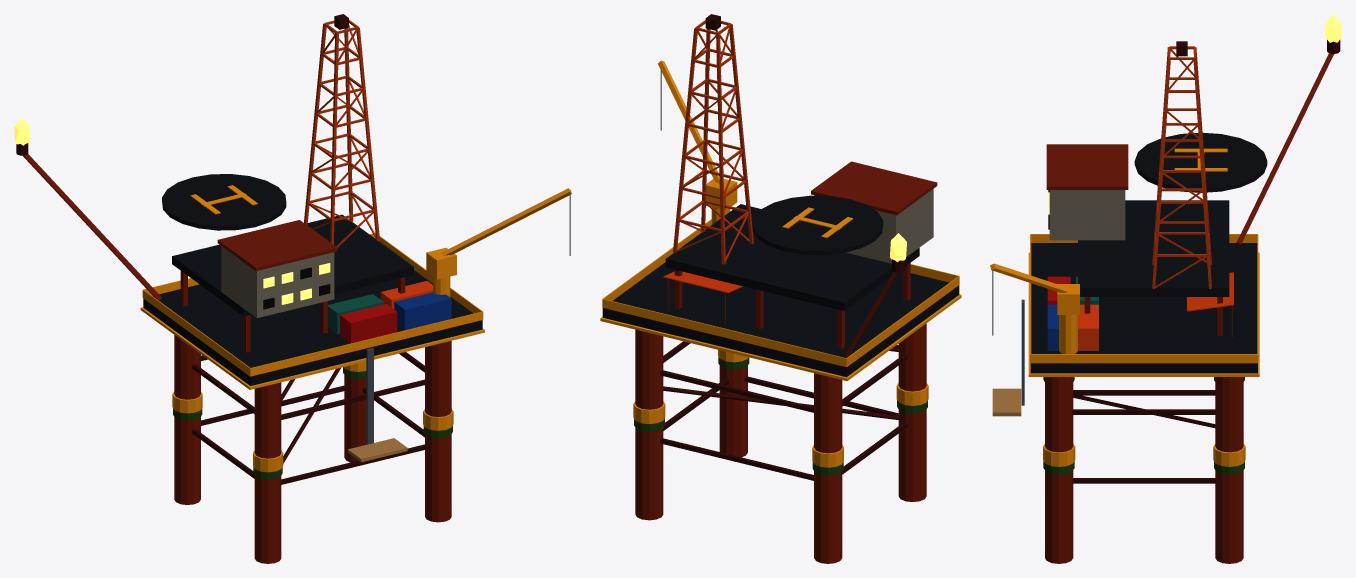
File: tb_oil_rig.glb
3 views of the same model, side by side, from view 1: azimuth 30°, elevation 25°; view 2: azimuth 150°, elevation 25°; view 3: azimuth 270°, elevation 25° (orthographic). The views are drawn at different scales.
Parts seen in each view (by area): view 1: oil_rig_body; view 2: oil_rig_body; view 3: oil_rig_body.
Part boxes in pixels (x1,y1,x2,y2): oil_rig_body: (14,14,571,563); oil_rig_body: (600,14,961,563); oil_rig_body: (990,14,1341,563).
Size of the model in its own units: 51.17 by 57.6 by 37.18.
